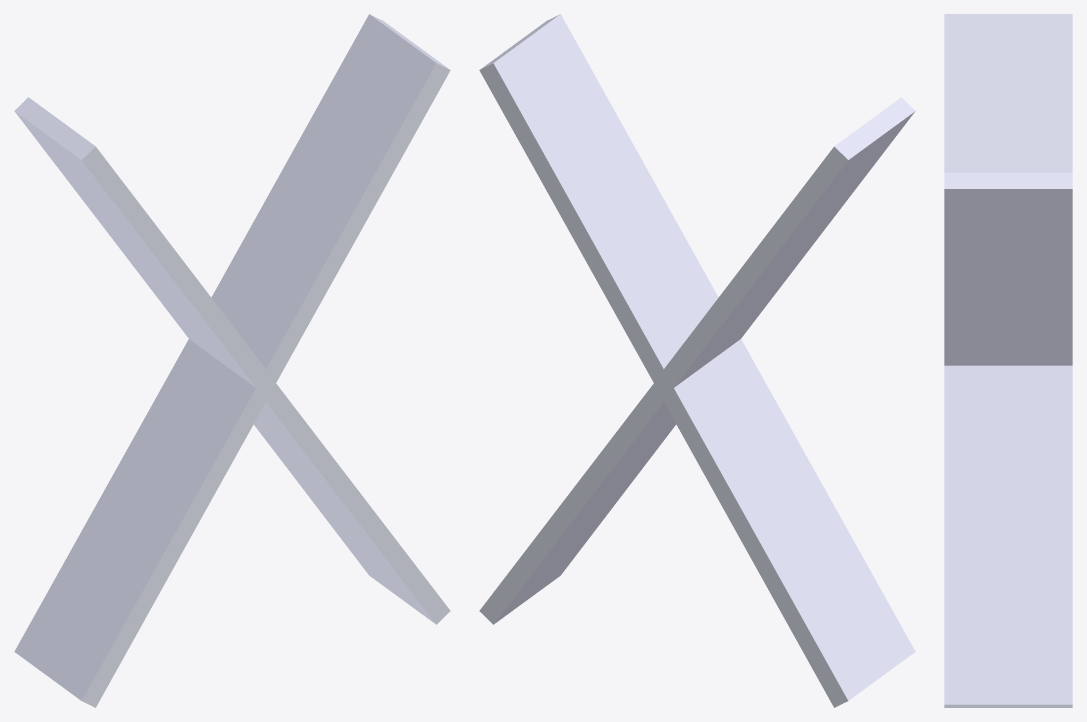
The model's file is 38f5edbe-06dd-4988-9c69-26b4e234dd34.glb.
3 renders of one model, left to right at view 1: azimuth 30°, elevation 25°; view 2: azimuth 150°, elevation 25°; view 3: azimuth 270°, elevation 25°, orthographic. The views are drawn at different scales.
Parts seen in each view (by area): view 1: x_AlphaProta_Grey; view 2: x_AlphaProta_Grey; view 3: x_AlphaProta_Grey.
Boxes of the visible parts, <box> form: x_AlphaProta_Grey: <box>14,14,450,707</box>; x_AlphaProta_Grey: <box>479,14,915,707</box>; x_AlphaProta_Grey: <box>944,14,1072,707</box>.
Size of what is drawn, in the model's own units: 0.1425 by 0.2072 by 0.045.
Materials: 2 (2 with a texture image).
